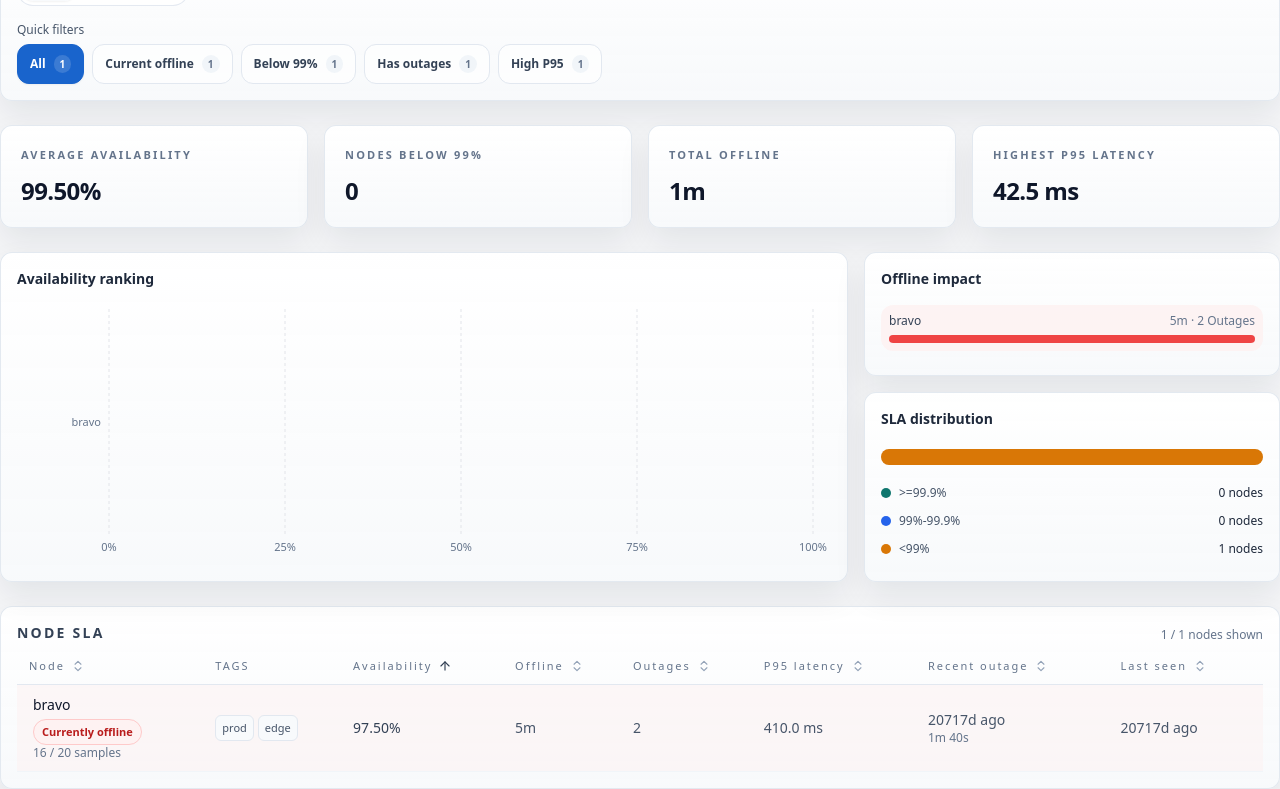
it: reports page › opens a node detail drawer from the SLA table
(page scrolled)
Click the button with aria-label "Open details for bravo": {"x": 52, "y": 705} [33,695,71,715]
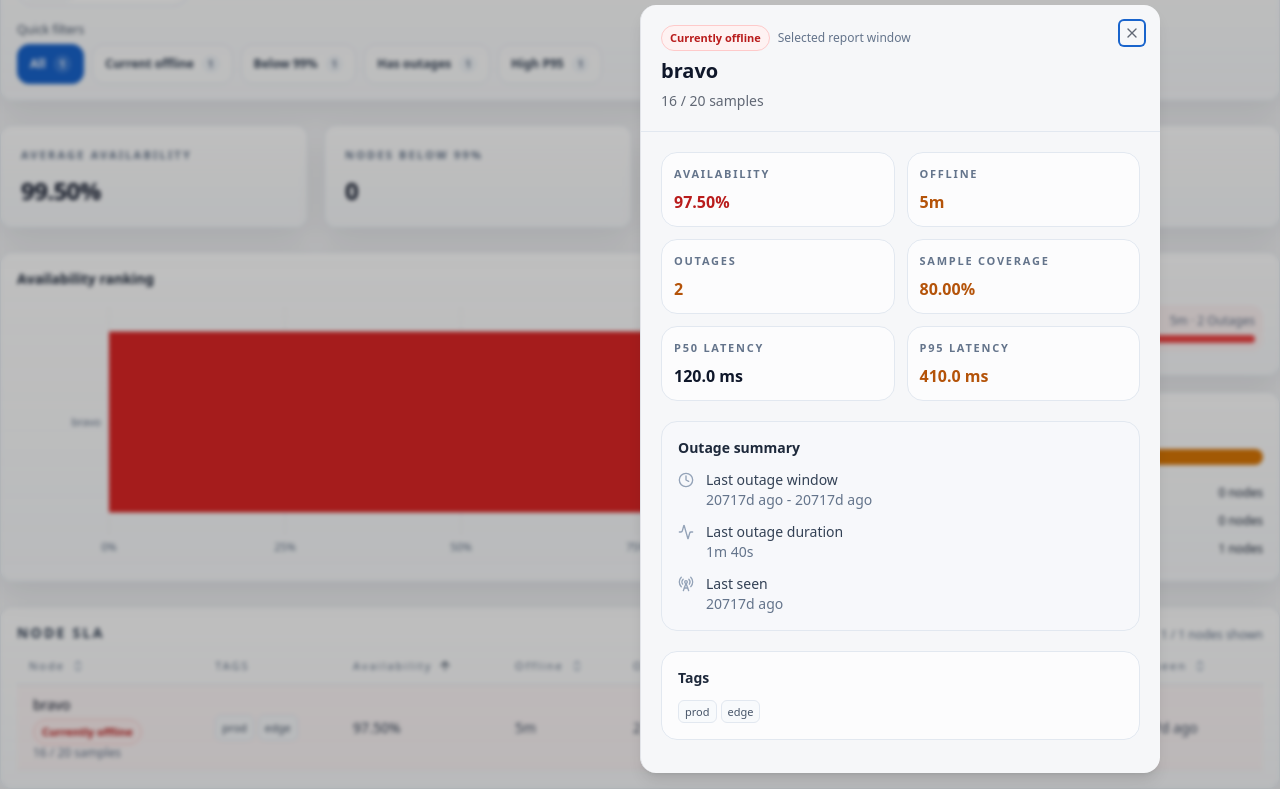
Result: the text "Currently offline" is shown at [661,25,770,51]
Result: the text "97.50%" is shown at [674,191,730,213]
Result: the text "Sample coverage" is shown at [920,253,1050,268]
